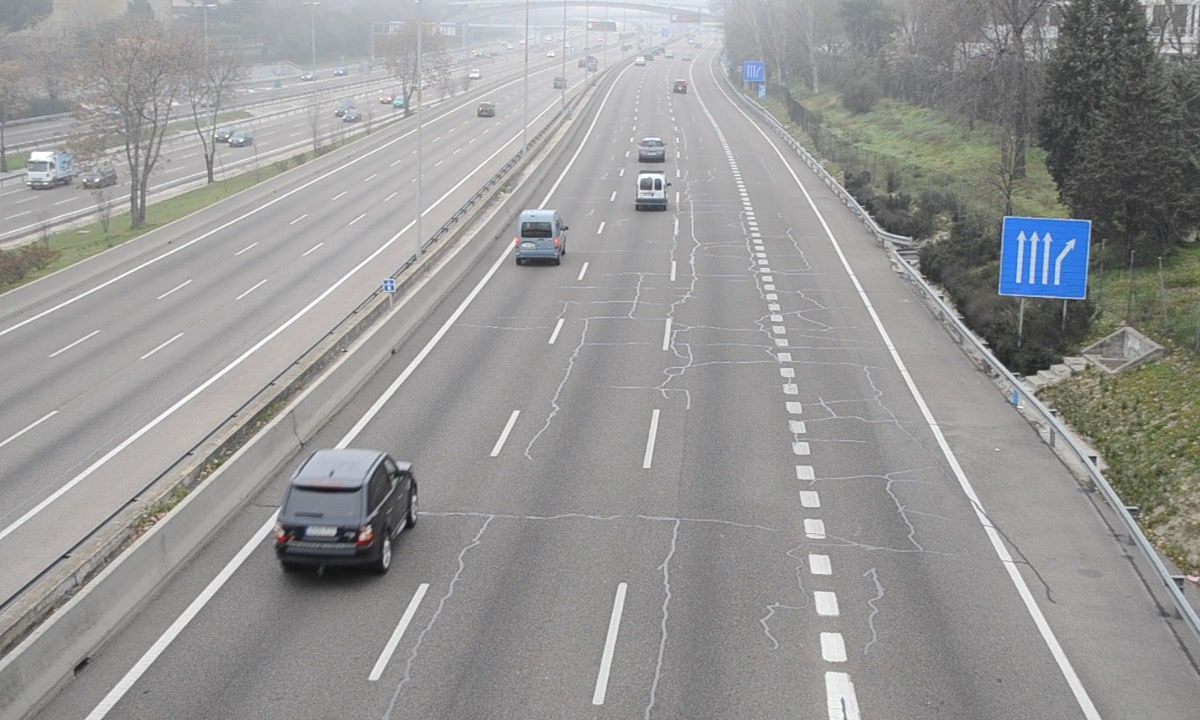car: (272, 450, 419, 565), (635, 136, 666, 163)
van: (514, 209, 563, 264), (634, 170, 668, 209)
